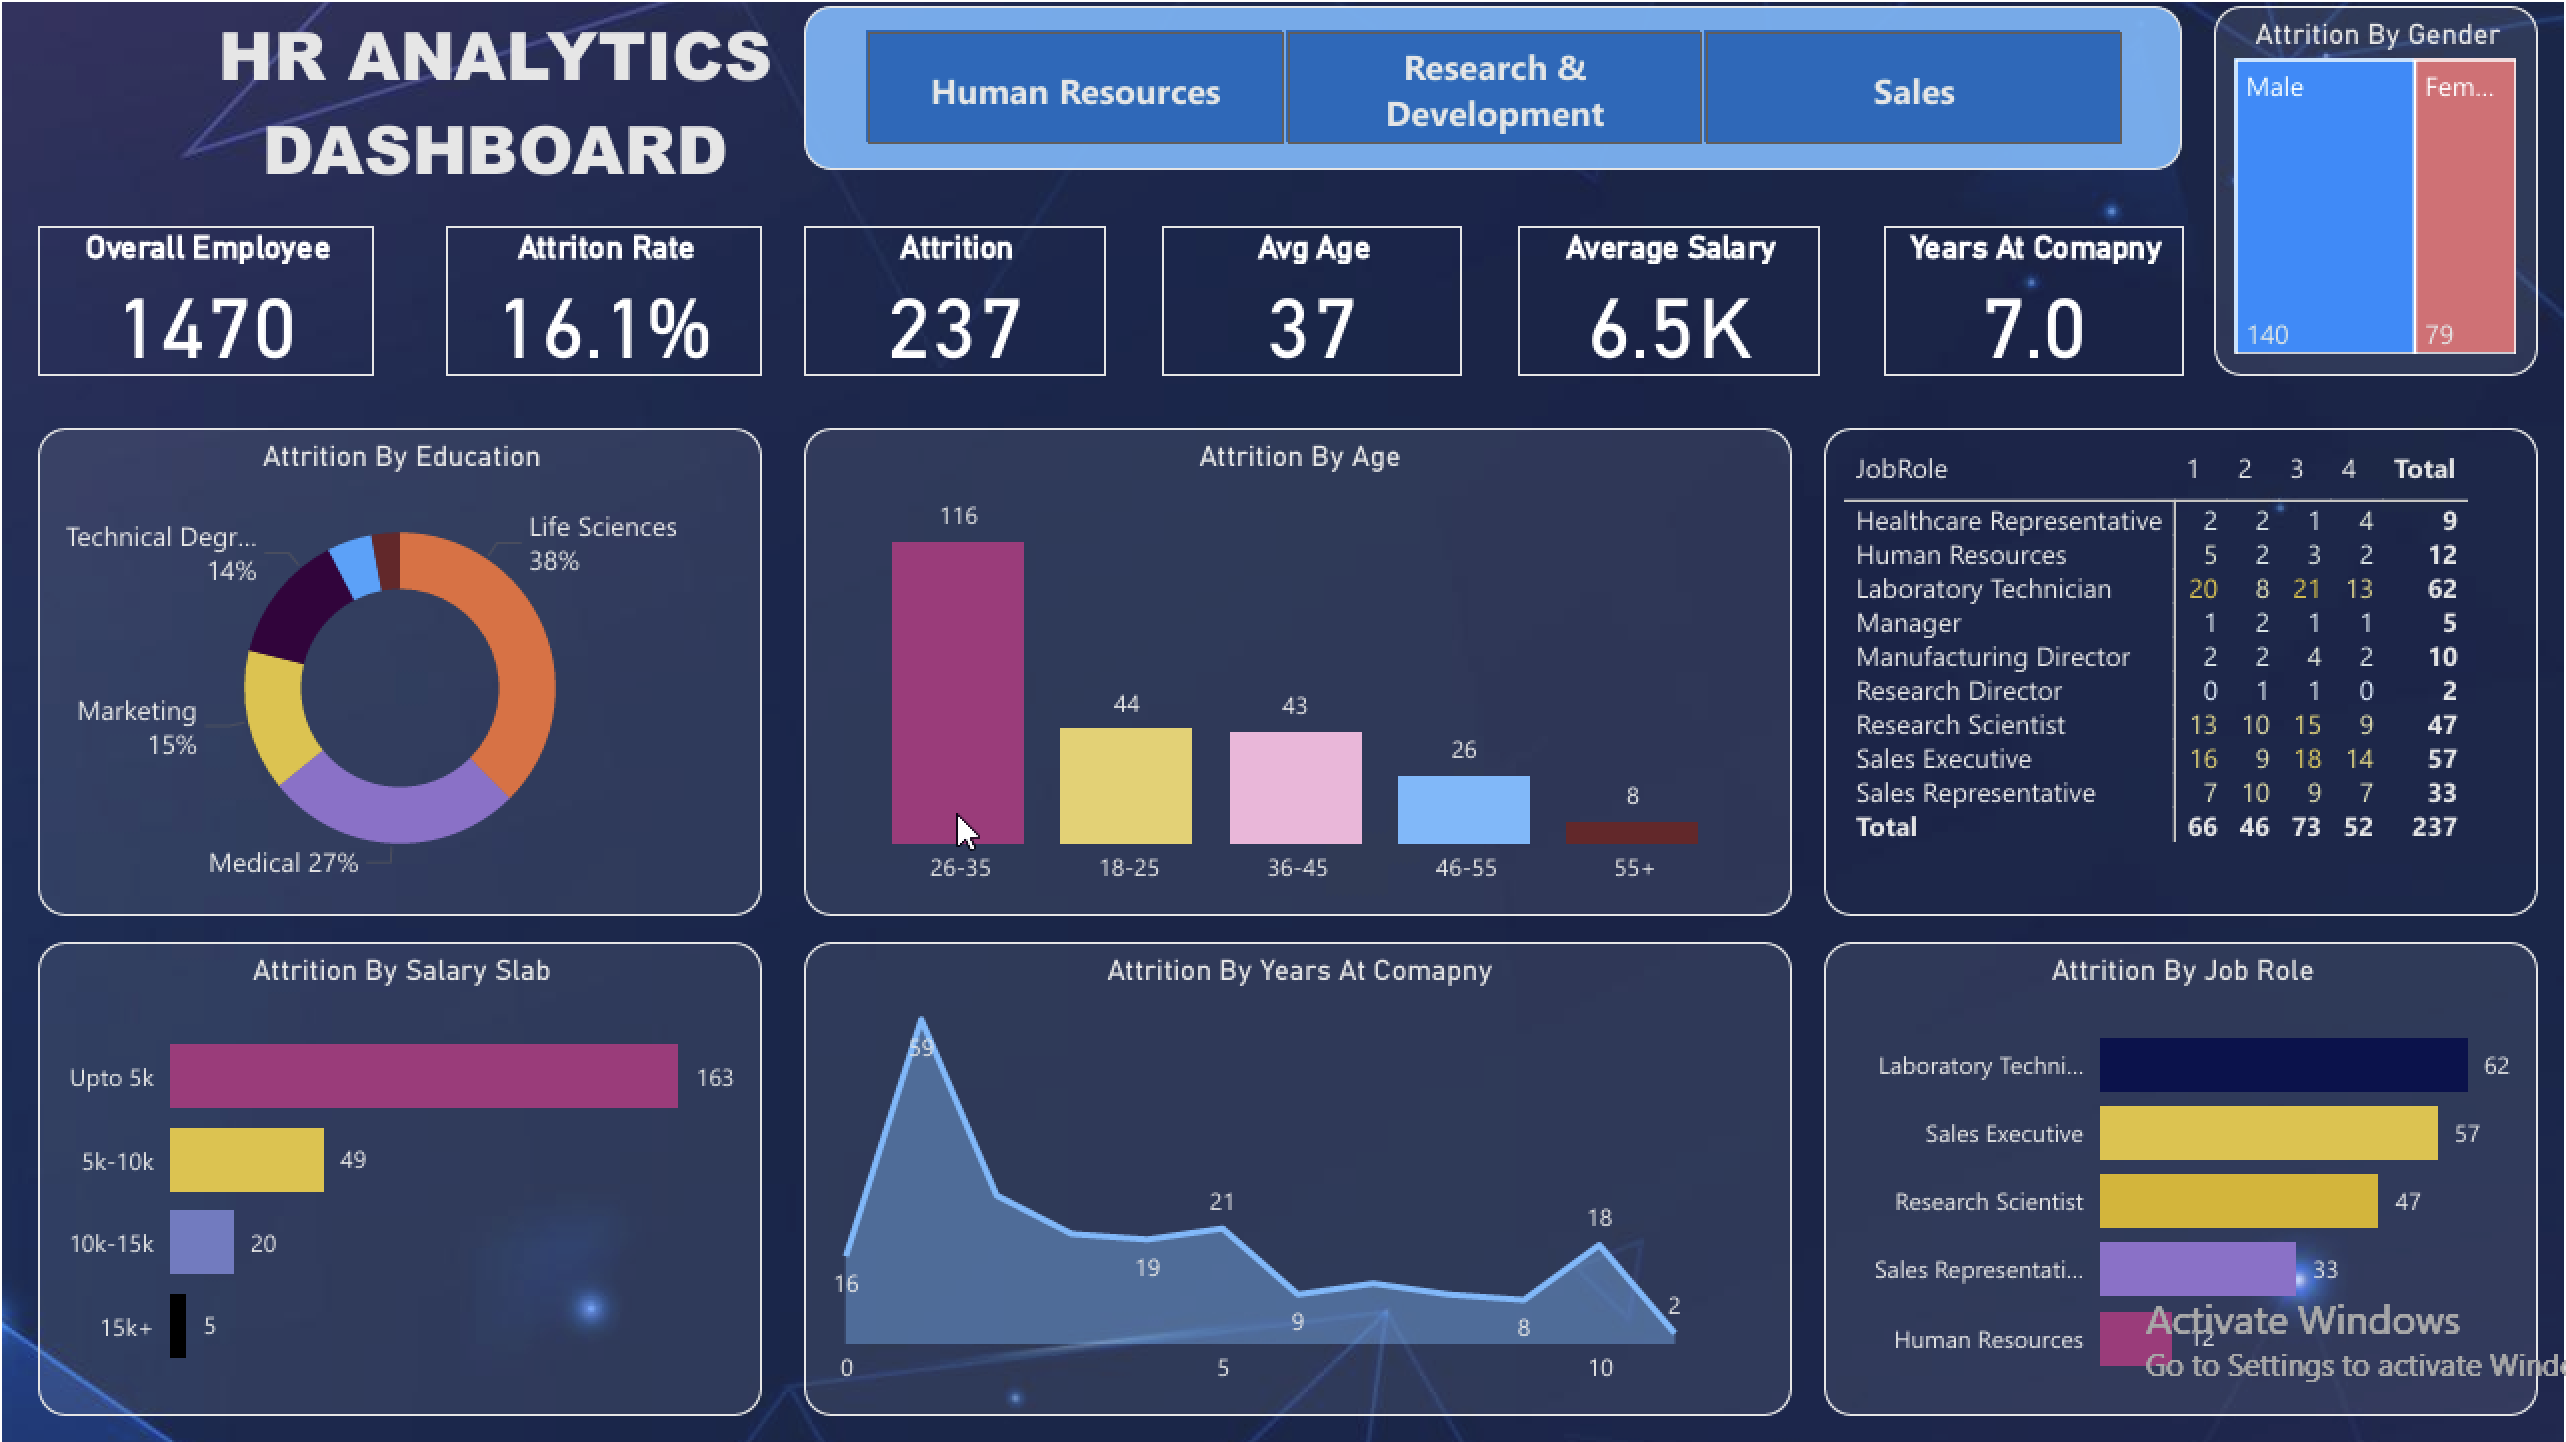

This screenshot's page, from the dashboard's own definition file:
{"tool":"powerbi","page":{"name":"Page 1","canvas":[1280,720],"ordinal":0},"visuals":[{"type":"card","title":"Overall Employee","fields":{"Values":["CountNonNull(HR_Analytics.EmpID)"]},"box":[17,111,168,75],"z":0},{"type":"card","title":"Attriton Rate","fields":{"Values":["HR_Analytics.Attrition Rate"]},"box":[221,111,158,75],"z":1000},{"type":"card","title":"Attrition","fields":{"Values":["Sum(HR_Analytics.Attrition Count)"]},"box":[400.3,110.9,150.4,75.2],"z":2000},{"type":"card","title":"Avg Age","fields":{"Values":["Avg(HR_Analytics.Age)"]},"box":[578.8,110.9,150.4,75.2],"z":3000},{"type":"card","title":"Average Salary","fields":{"Values":["Avg(HR_Analytics.MonthlyIncome)"]},"box":[757.3,110.9,150.4,75.2],"z":4000},{"type":"card","title":"Years At Comapny","fields":{"Values":["Avg(HR_Analytics.YearsAtCompany)"]},"box":[939.6,110.9,150.4,75.2],"z":5000},{"type":"donutChart","title":"Attrition By Education","fields":{"Category":["HR_Analytics.EducationField"],"Y":["Sum(HR_Analytics.Attrition Count)"]},"box":[17,212,362,244],"z":6000},{"type":"columnChart","title":"Attrition By Age","fields":{"Y":["Sum(HR_Analytics.Attrition Count)"],"Category":["HR_Analytics.AgeGroup"]},"box":[400,212,494,244],"z":7000},{"type":"pivotTable","fields":{"Rows":["HR_Analytics.JobRole"],"Columns":["HR_Analytics.JobSatisfaction"],"Values":["Sum(HR_Analytics.Attrition Count)"]},"box":[910.3,211.6,357,244.8],"z":8000},{"type":"barChart","title":"Attrition By Salary Slab","fields":{"Category":["HR_Analytics.SalarySlab"],"Y":["Sum(HR_Analytics.Attrition Count)"]},"box":[17,469,362,237],"z":9000},{"type":"barChart","title":"Attrition By Job Role","fields":{"Category":["HR_Analytics.JobRole"],"Y":["Sum(HR_Analytics.Attrition Count)"]},"box":[910,469,357,237],"z":10000},{"type":"areaChart","title":"Attrition By Years At Comapny","fields":{"Category":["HR_Analytics.YearsAtCompany"],"Y":["Sum(HR_Analytics.Attrition Count)"]},"box":[400,469,494,237],"z":11000},{"type":"treemap","title":"Attrition By Gender","fields":{"Group":["HR_Analytics.Gender"],"Values":["Sum(HR_Analytics.Attrition Count)"]},"box":[1105,1,162,185],"z":12000},{"type":"slicer","fields":{"Values":["HR_Analytics.Department"]},"box":[400,1,689,82],"z":13000},{"type":"textbox","title":"HR ANALYTICS DASHBOARD","box":[16.6,1.3,457.7,96.9],"z":14000}]}

Visuals, with their boxes in screenshot pixels (x1, y1, x2, y2):
"Overall Employee" card: x1=47 y1=226 x2=379 y2=374
"Attriton Rate" card: x1=450 y1=226 x2=763 y2=374
"Attrition" card: x1=805 y1=226 x2=1102 y2=375
"Avg Age" card: x1=1158 y1=226 x2=1455 y2=375
"Average Salary" card: x1=1511 y1=226 x2=1808 y2=375
"Years At Comapny" card: x1=1871 y1=226 x2=2168 y2=375
"Attrition By Education" donutChart: x1=47 y1=426 x2=763 y2=908
"Attrition By Age" columnChart: x1=804 y1=426 x2=1781 y2=908
pivotTable - HR_Analytics.JobRole x HR_Analytics.JobSatisfaction: x1=1813 y1=425 x2=2519 y2=909
"Attrition By Salary Slab" barChart: x1=47 y1=934 x2=763 y2=1402
"Attrition By Job Role" barChart: x1=1812 y1=934 x2=2518 y2=1402
"Attrition By Years At Comapny" areaChart: x1=804 y1=934 x2=1781 y2=1402
"Attrition By Gender" treemap: x1=2198 y1=9 x2=2518 y2=374
slicer - HR_Analytics.Department: x1=804 y1=9 x2=2166 y2=171
"HR ANALYTICS DASHBOARD" textbox: x1=46 y1=9 x2=951 y2=201
